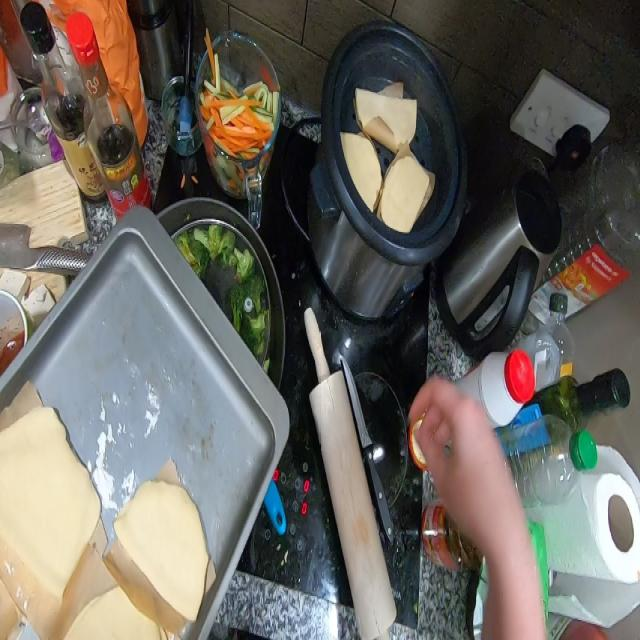broccoli: (184, 219, 270, 343)
kettle: (444, 118, 558, 360)
knife: (0, 216, 89, 279)
knige: (340, 350, 398, 548)
papper: (560, 435, 640, 625)
right hand: (412, 359, 519, 584)
